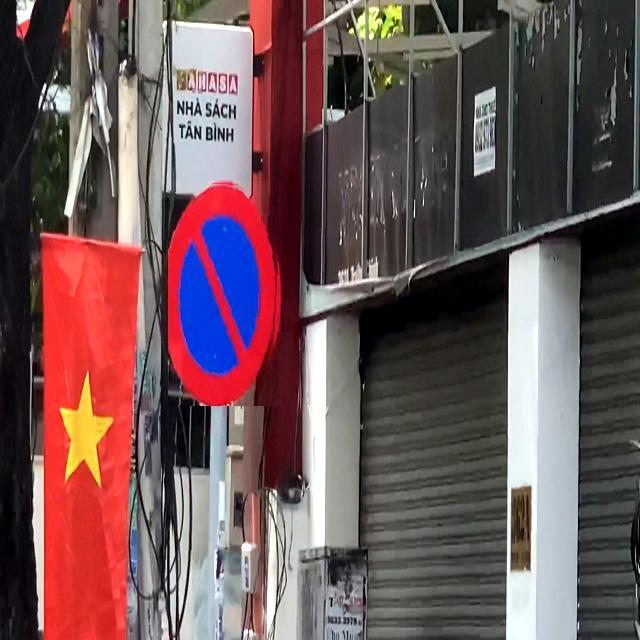P-131a: (168, 181, 282, 406)
